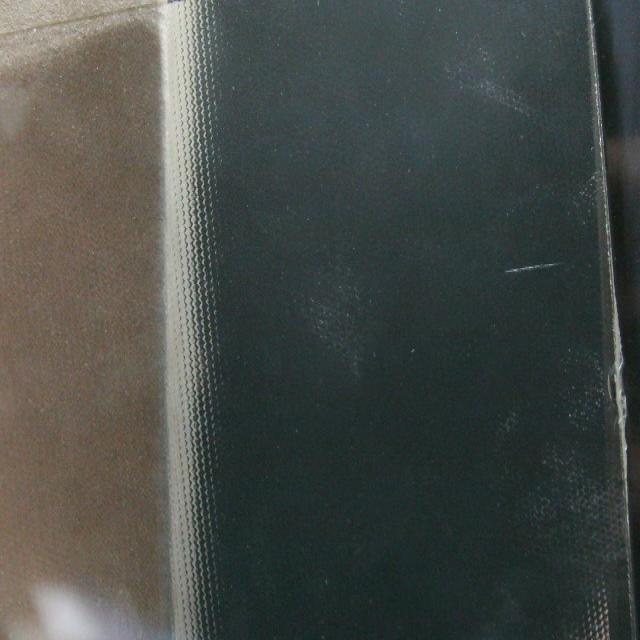edge_chip: (606, 288, 632, 488)
scratch: (499, 253, 571, 285)
